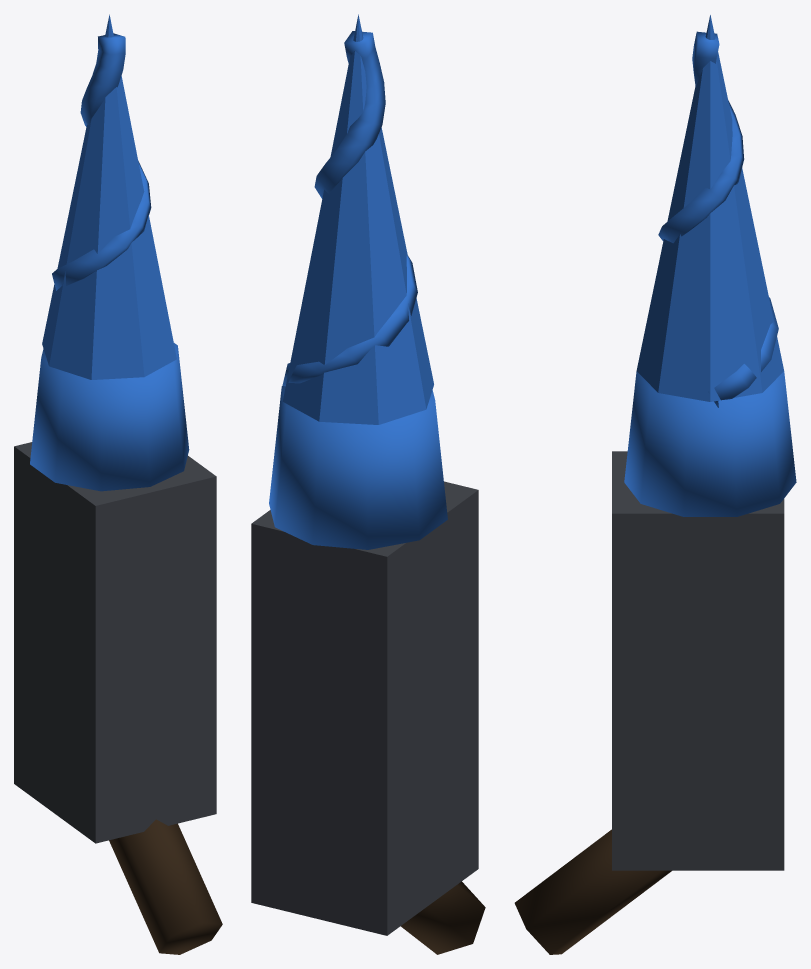
File: cobalt_drill.glb
3 views of the same model, side by side, from view 1: azimuth 30°, elevation 25°; view 2: azimuth 150°, elevation 25°; view 3: azimuth 270°, elevation 25° (orthographic). The views are drawn at different scales.
Visible parts, largest first — view 1: cobalt_drill_v0; view 2: cobalt_drill_v0; view 3: cobalt_drill_v0.
Part boxes in pixels (x1,y1,x2,y2): cobalt_drill_v0: [14, 14, 222, 954]; cobalt_drill_v0: [251, 14, 485, 954]; cobalt_drill_v0: [514, 15, 796, 954].
Bounding box in the file's own units: 0.1331 × 0.843 × 0.2292.
